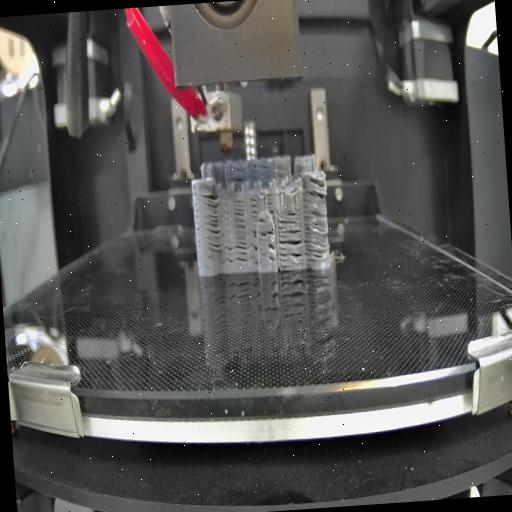cracks: (201, 193, 224, 261), (302, 210, 330, 264), (277, 226, 304, 262), (248, 230, 276, 264), (192, 184, 202, 262), (222, 240, 249, 268), (303, 178, 327, 202), (232, 198, 247, 234), (249, 164, 269, 182), (276, 212, 298, 226), (266, 192, 275, 215), (249, 198, 259, 218), (255, 214, 271, 225), (274, 166, 286, 180), (228, 176, 246, 184), (229, 166, 246, 172)
